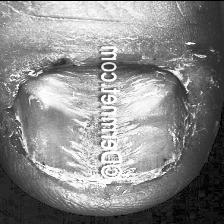Toxin: (8, 54, 101, 190), (124, 49, 208, 183)
